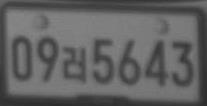0: (11, 35, 33, 82)
3: (172, 41, 194, 88)
4: (144, 39, 170, 87)
5: (92, 38, 115, 85)
6: (118, 38, 141, 86)
9: (37, 37, 59, 81)
러: (62, 44, 88, 85)
